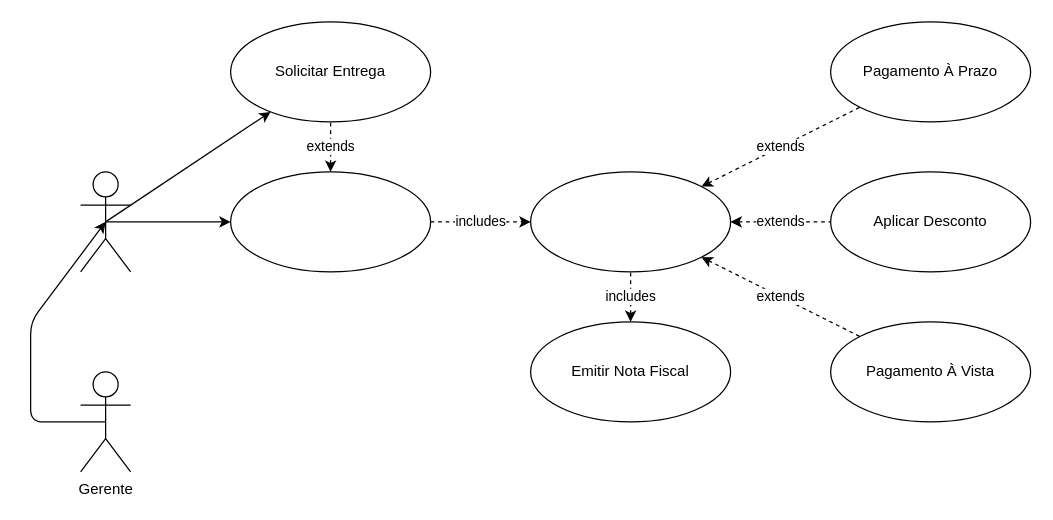
Image size: 1053x520. Some labels were removed from this diagram. The shapes that lost their labels are listed below. From the top down, each one's centre as x and y in pixels, then its label:
point (105, 221): Atendente
point (330, 221): Realizar Venda
point (630, 221): Realizar Pagamento
